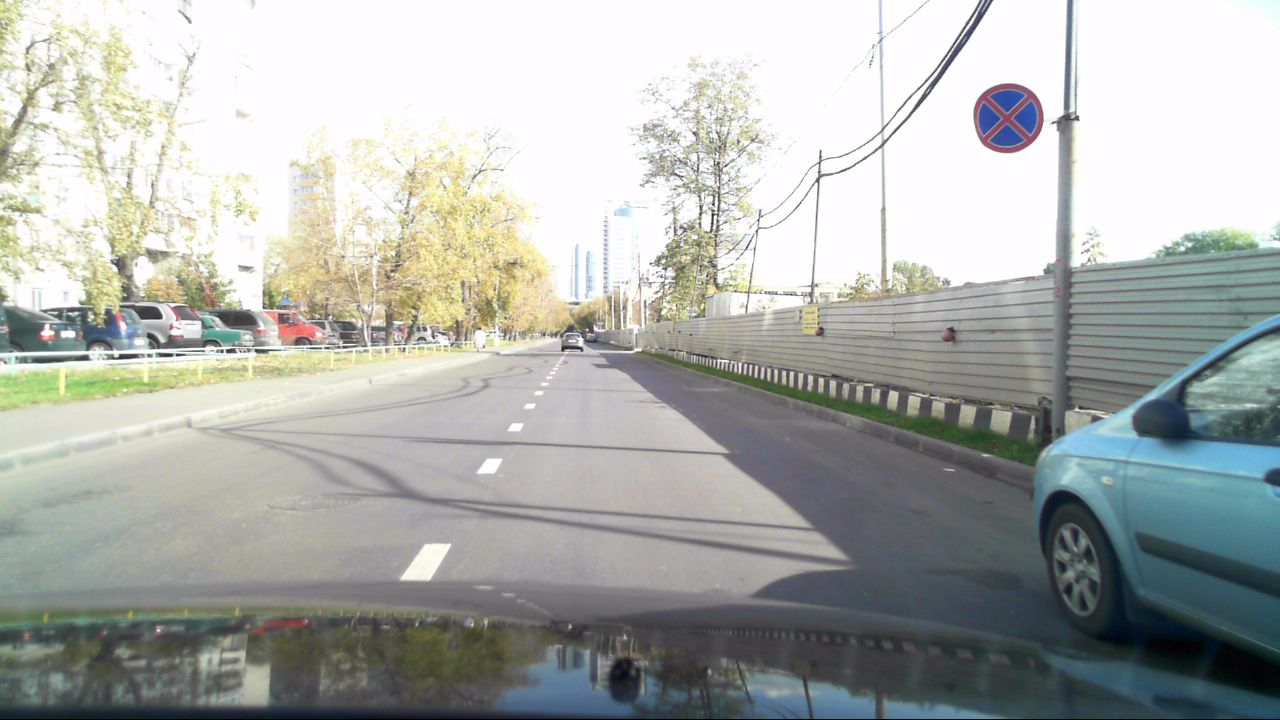No Parking: (972, 79, 1047, 153)
